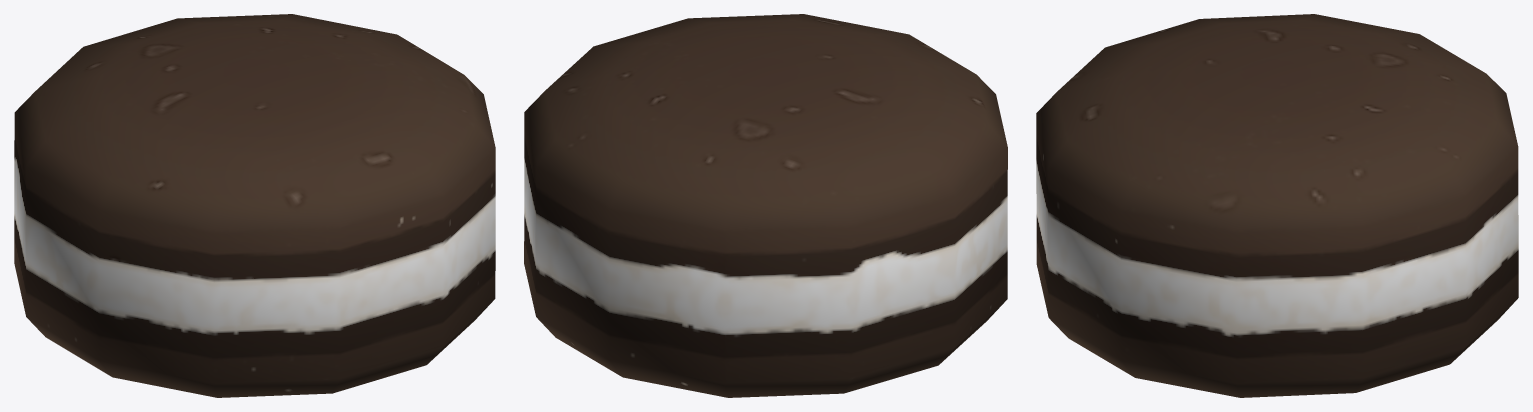
Rendered from BuffetDesserts02_7.FBX.
3 views of the same model, side by side, from view 1: azimuth 30°, elevation 25°; view 2: azimuth 150°, elevation 25°; view 3: azimuth 270°, elevation 25° (orthographic).
Parts seen in each view (by area): view 1: BuffetDesserts02_7; view 2: BuffetDesserts02_7; view 3: BuffetDesserts02_7.
Boxes of the visible parts, x1,y1,x2,y2 form: BuffetDesserts02_7: (14, 14, 495, 397); BuffetDesserts02_7: (524, 14, 1007, 397); BuffetDesserts02_7: (1036, 14, 1518, 397).
Size of what is drawn, in the model's own units: 0.1043 by 0.0633 by 0.1044.
